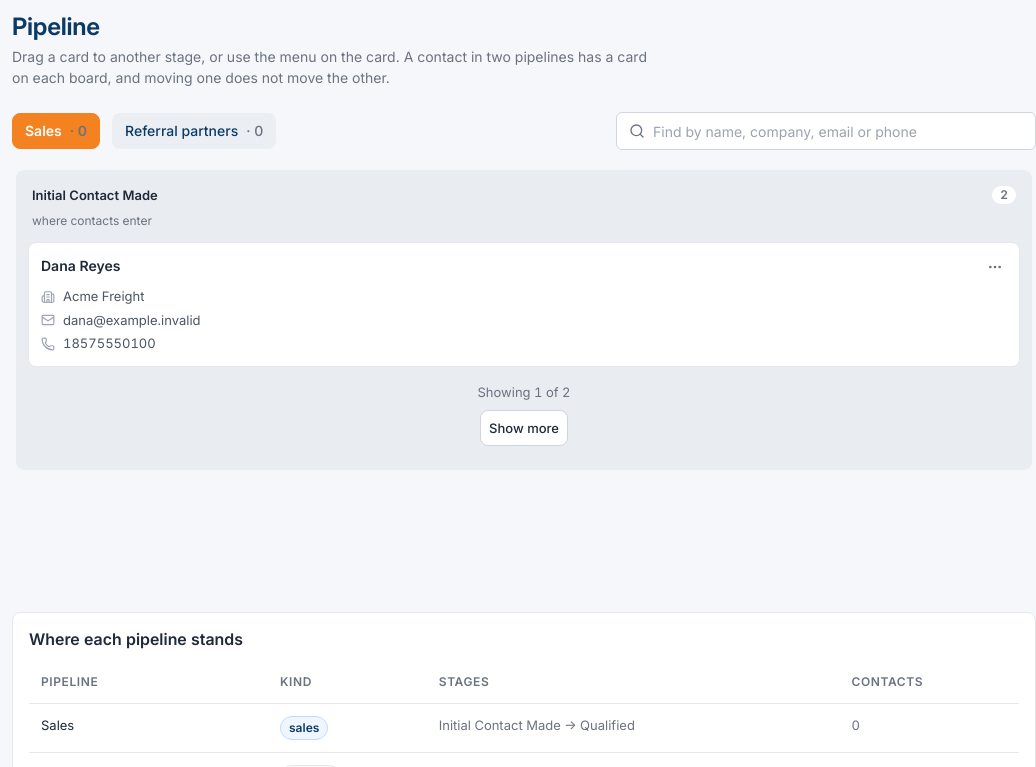
Test case: Pipeline board › loads the rest of a long column on Show more
The width and height of the screenshot is (1036, 767).
Expected: the link "Dana Reyes" is shown, [41,255,120,276]
Expected: the element "Initial Contact Made" shows "Showing 1 of 2", [16,170,1032,470]
Click the button with aria-label "Show more in Initial Contact Made".
click(524, 428)  # box [480,410,568,446]
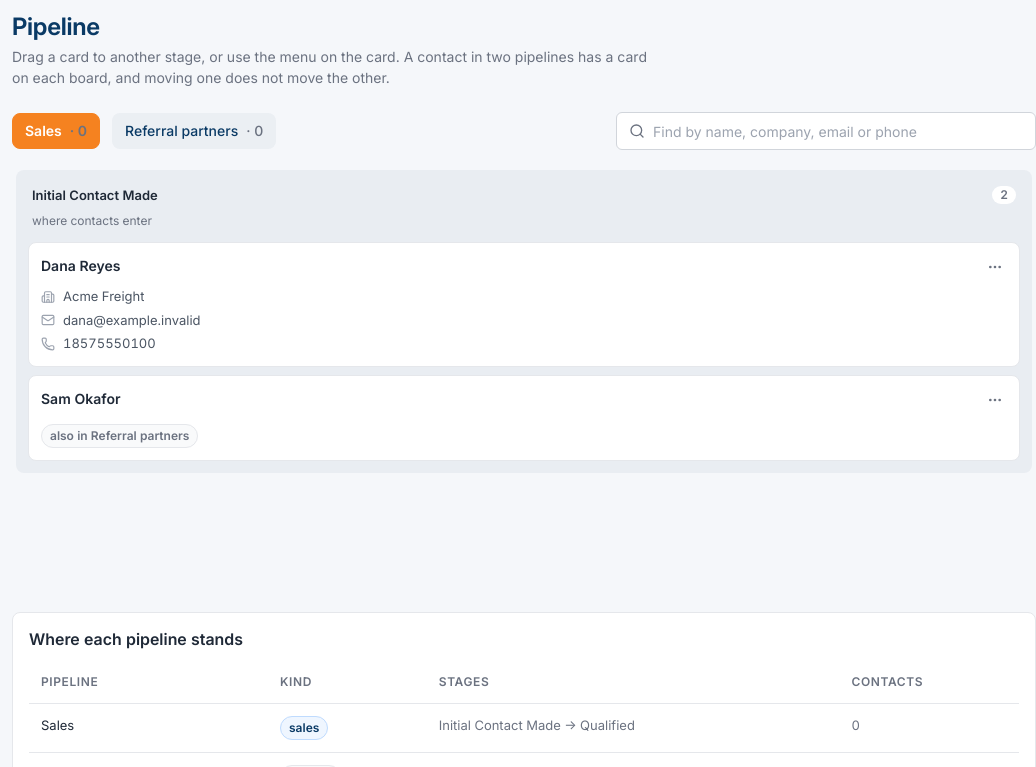
Result: the link "Sam Okafor" is shown at [41,388,120,408]
Result: the button "Show more" is gone
